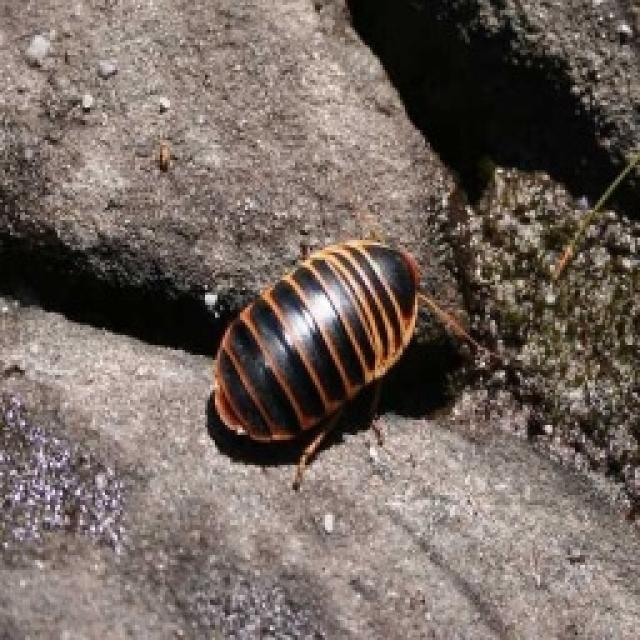cockroach: (201, 231, 503, 495)
